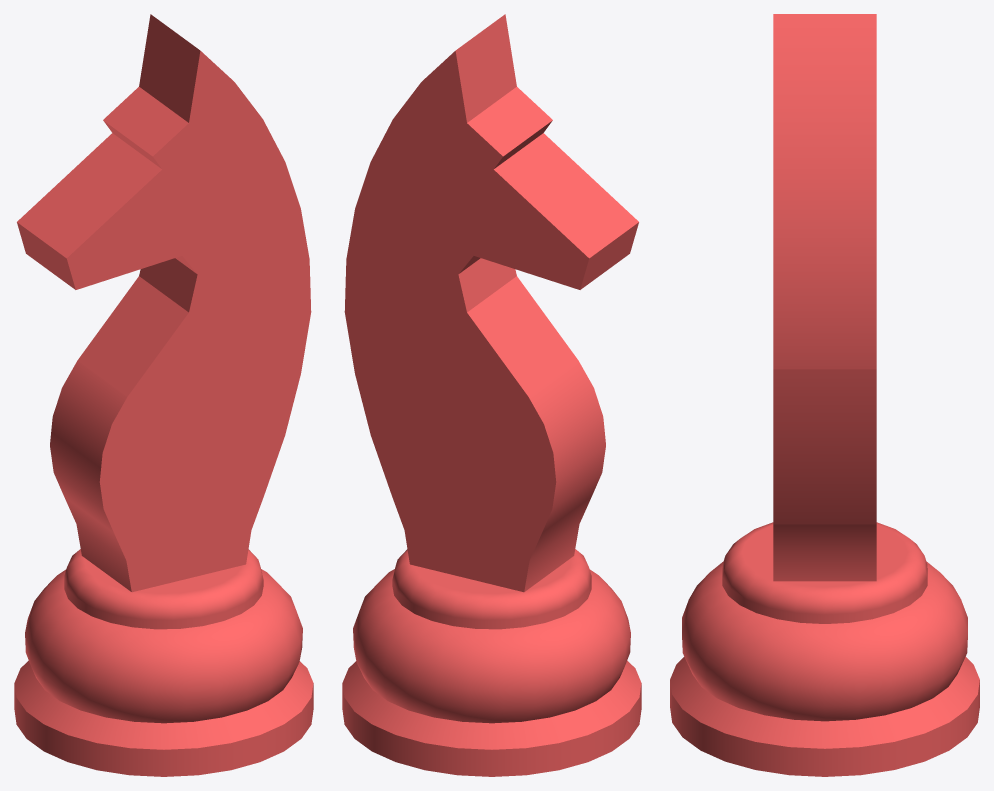
The model's file is knight.glb.
3 views of the same model, side by side, from view 1: azimuth 30°, elevation 25°; view 2: azimuth 150°, elevation 25°; view 3: azimuth 270°, elevation 25° (orthographic). The views are drawn at different scales.
Bounding box in the file's own units: 0.0299 × 0.075 × 0.0299.
